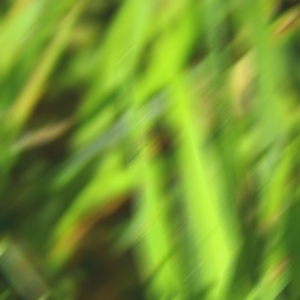Brown_Spot: (140, 142, 166, 168), (126, 120, 152, 146)
